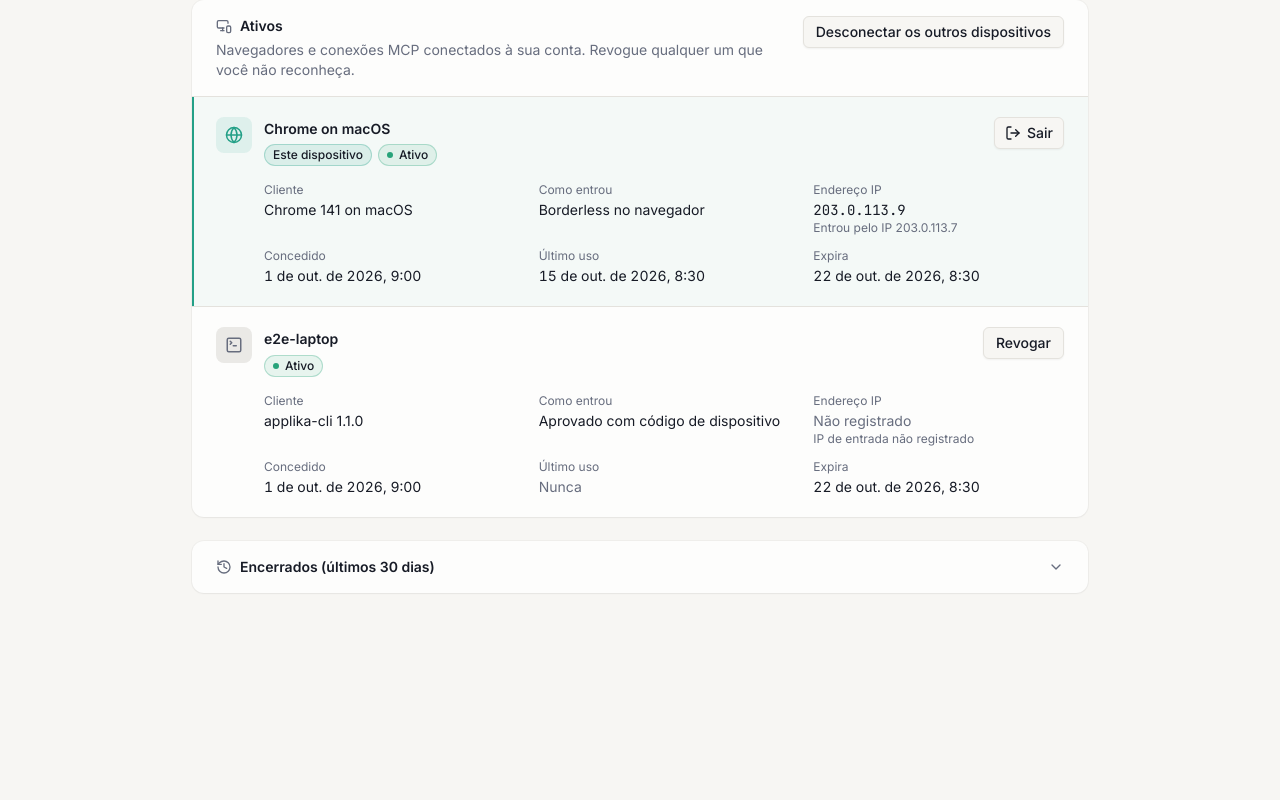
Test: Devices tab in Portuguese › confirms a revoke in Portuguese, naming the device as sent
This screenshot has width=1280, height=800.
Click the button "Revogar": x=1023, y=343 left=983, top=327, right=1064, bottom=359
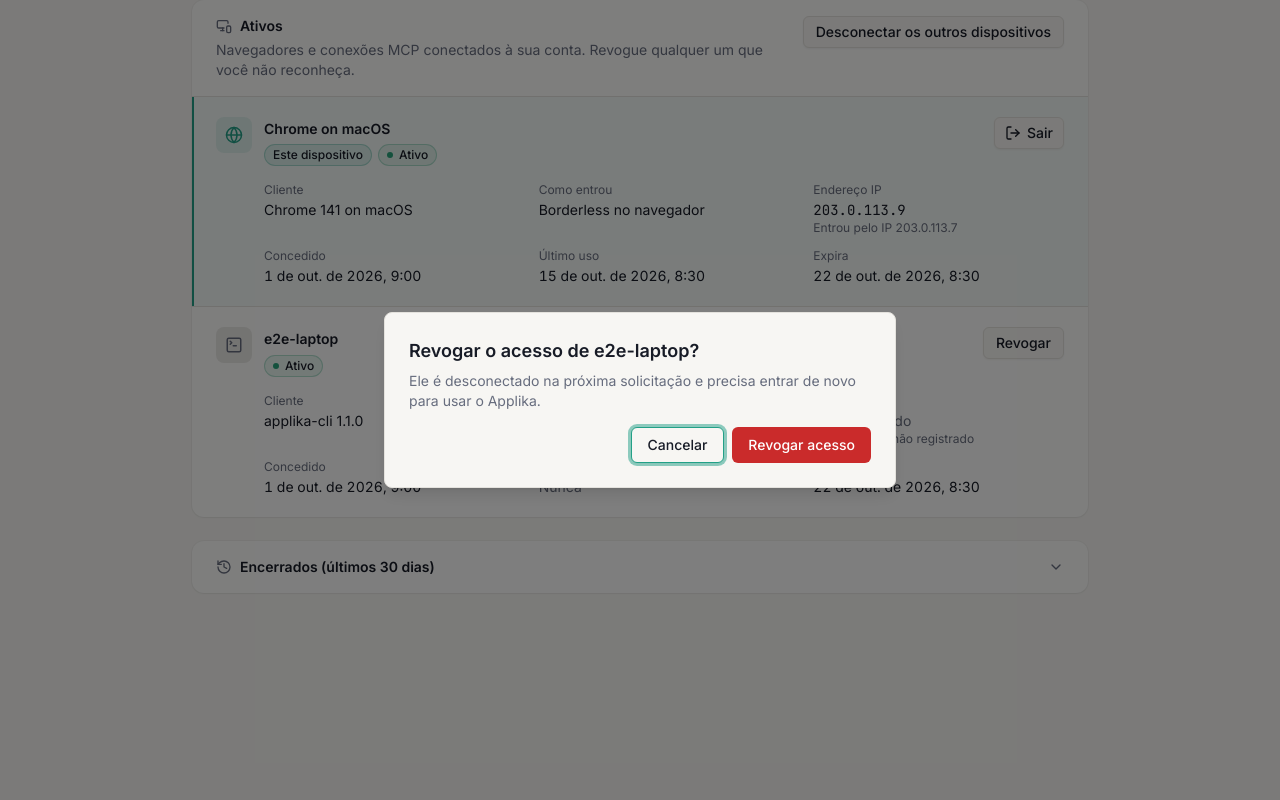
Now the heading "Revogar o acesso de e2e-laptop?" is shown, box left=409, top=337, right=699, bottom=365
Now the button "Revogar acesso" is shown, box left=732, top=427, right=871, bottom=463
Now the button "Cancelar" is shown, box left=630, top=427, right=724, bottom=463
